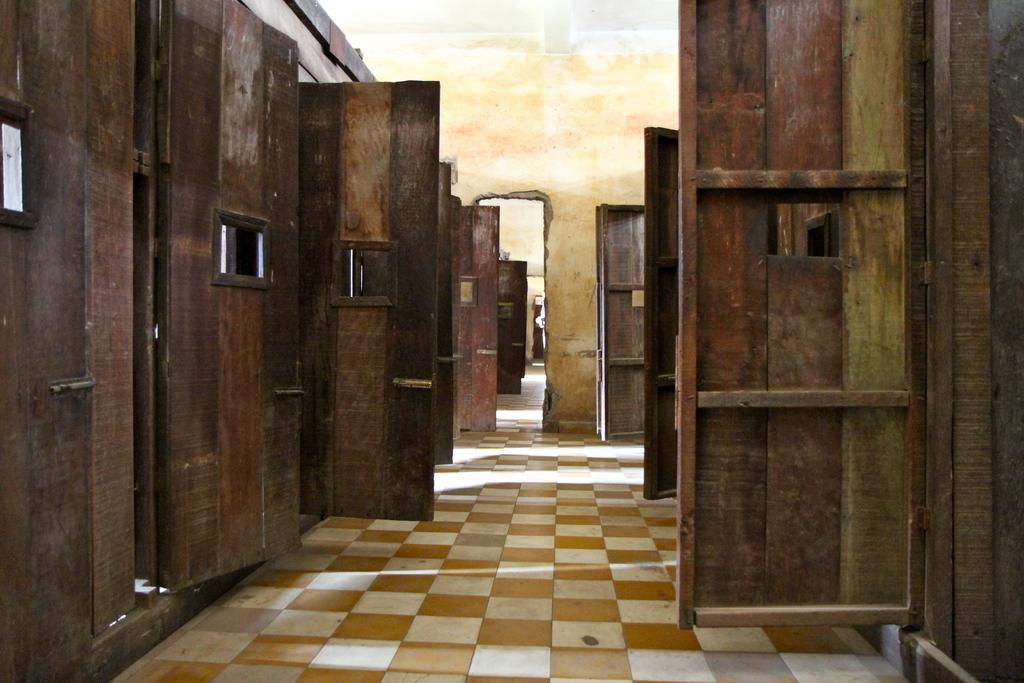handle: (40, 374, 102, 402), (387, 363, 431, 398), (257, 378, 301, 402)
